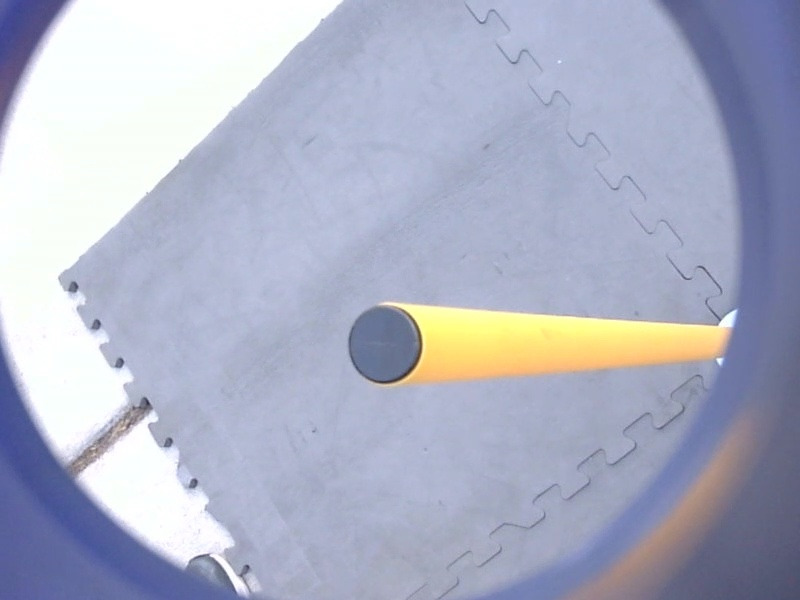tip: (336, 298, 429, 393)
